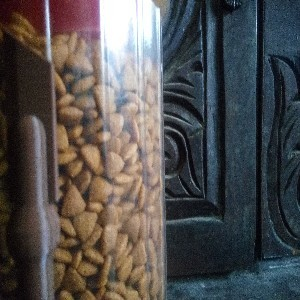cutter: (1, 27, 57, 300)
